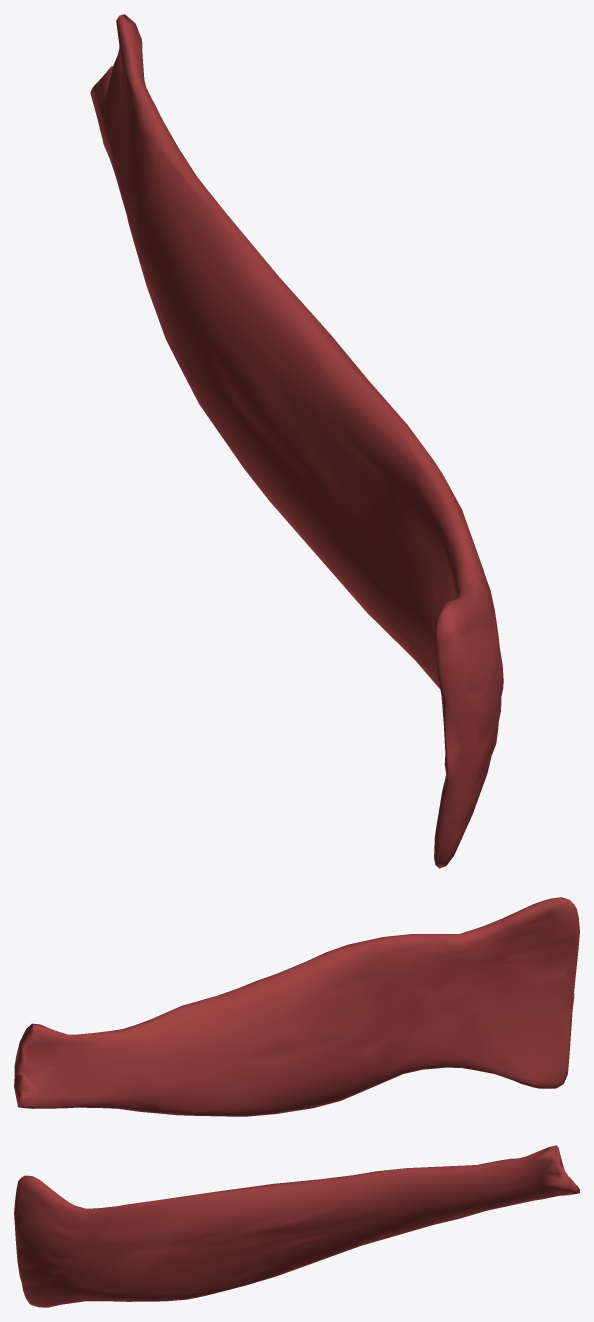
The model's file is medial-rectus-muscle-r.glb.
3 views of the same model, one above another, from view 1: azimuth 30°, elevation 25°; view 2: azimuth 150°, elevation 25°; view 3: azimuth 270°, elevation 25° (orthographic). The views are drawn at different scales.
Parts seen in each view (by area): view 1: Medial rectus muscle.r; view 2: Medial rectus muscle.r; view 3: Medial rectus muscle.r.
Part boxes in pixels (x1=…): Medial rectus muscle.r: x1=90, y1=14, x2=503, y2=868; Medial rectus muscle.r: x1=14, y1=897, x2=579, y2=1116; Medial rectus muscle.r: x1=14, y1=1145, x2=579, y2=1307.
Size of the model in its own units: 0.01 by 0.0166 by 0.0404.
